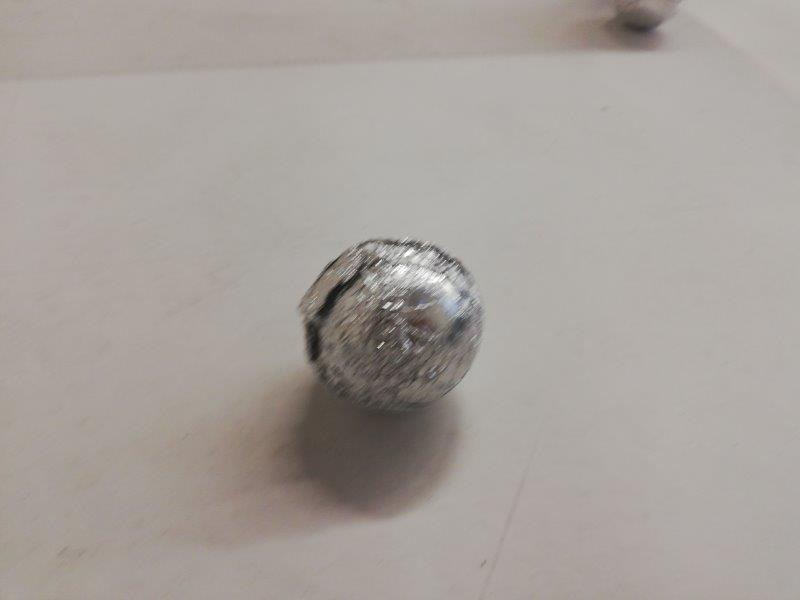bianca: (300, 237, 485, 418), (616, 2, 683, 32)
